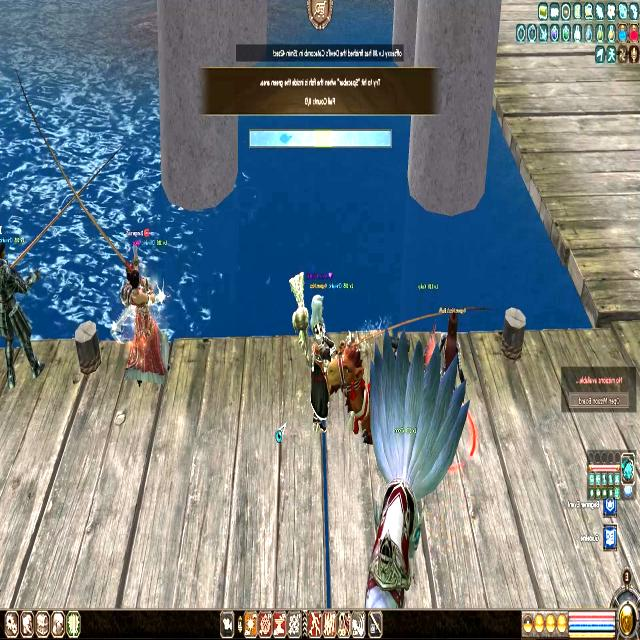fishes: (280, 131, 292, 145)
